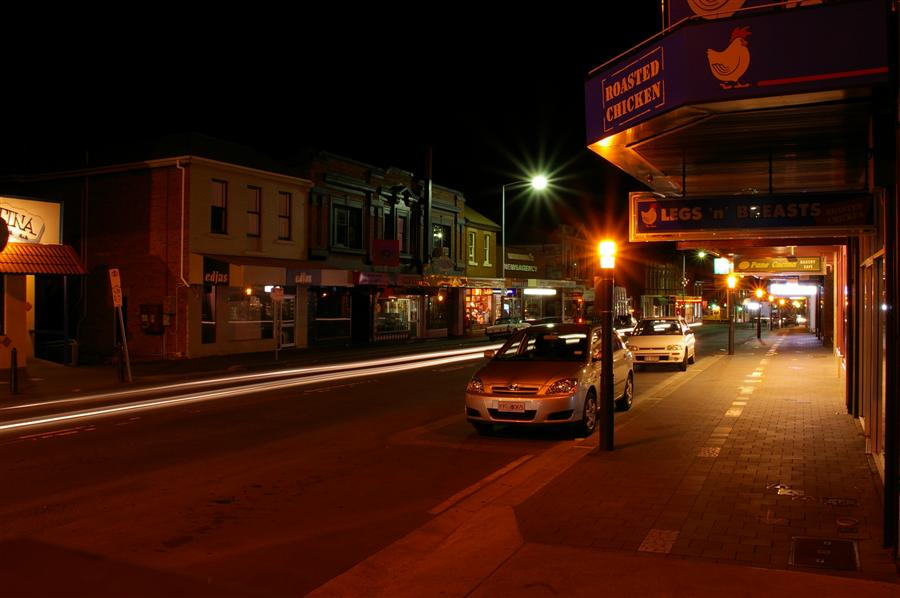car: (621, 312, 706, 378)
